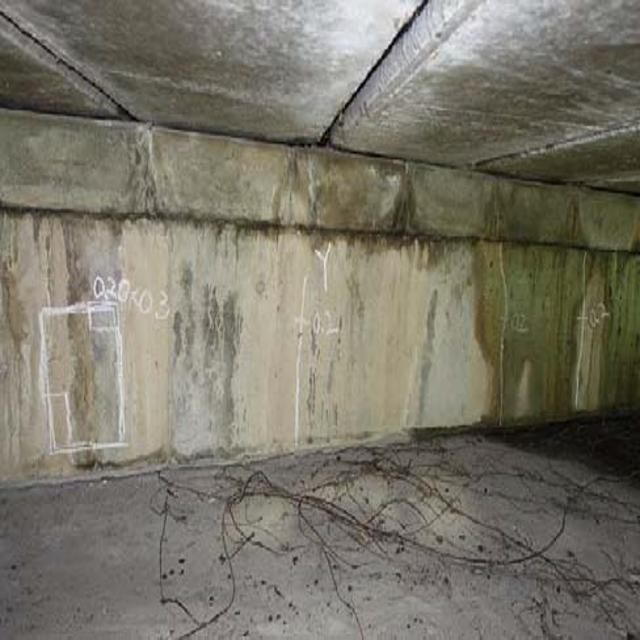leakage: (474, 156, 634, 436)
